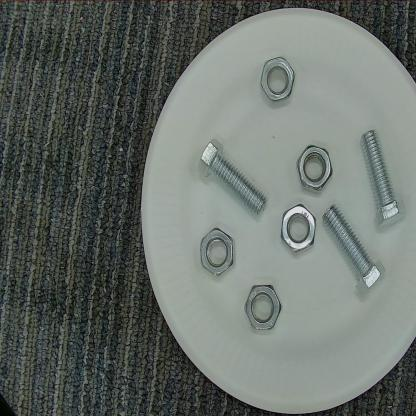FOD: (192, 134, 272, 226), (355, 116, 410, 239), (320, 203, 388, 301), (278, 198, 321, 261), (241, 278, 286, 336), (256, 52, 298, 110), (197, 223, 238, 281), (293, 141, 337, 195)
